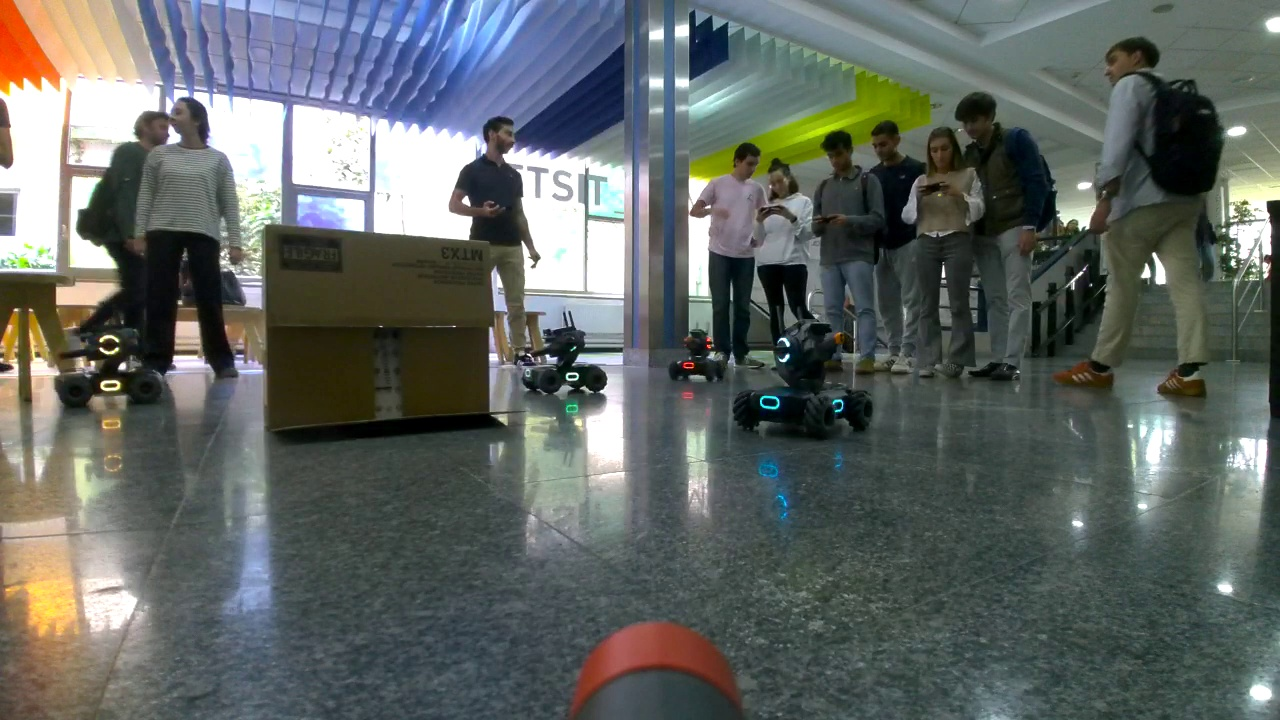robot: (735, 326, 871, 425), (54, 330, 169, 400), (524, 325, 605, 386), (669, 332, 722, 383)
